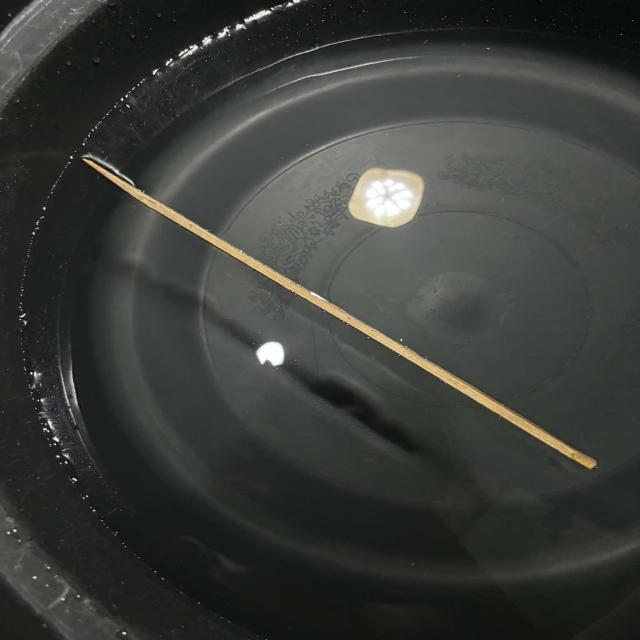Wood Stick: (58, 145, 624, 522)
